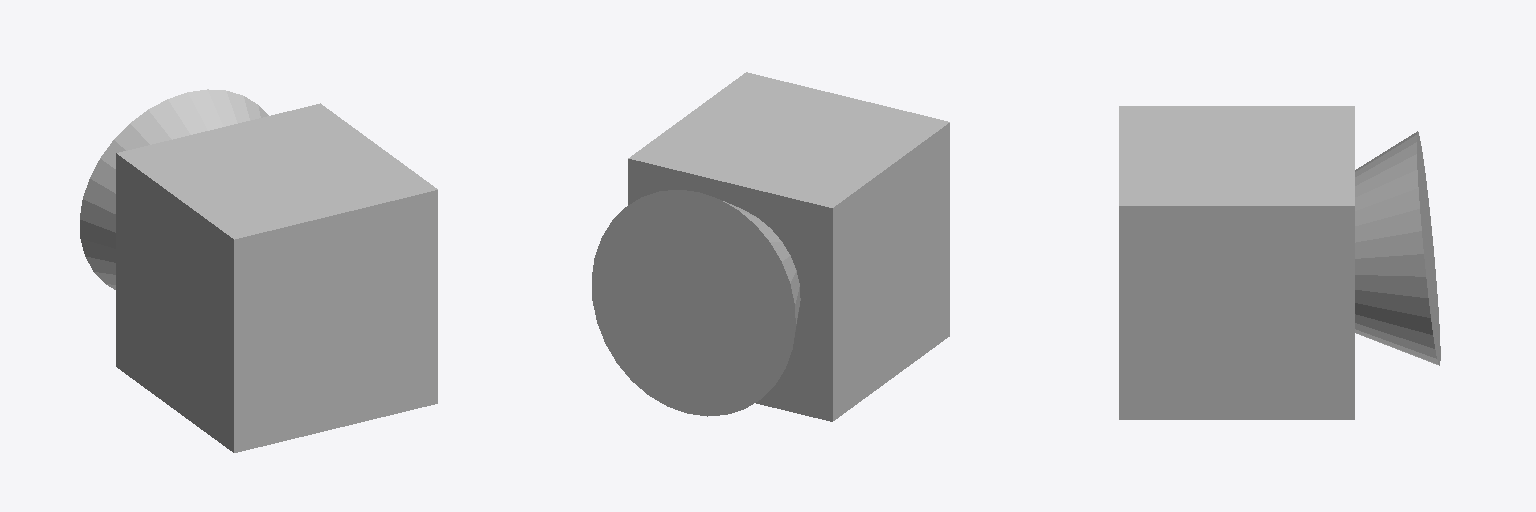
Rendered from camera.obj.
3 views of the same model, side by side, from view 1: azimuth 30°, elevation 25°; view 2: azimuth 150°, elevation 25°; view 3: azimuth 270°, elevation 25° (orthographic).
Visible parts, largest first — view 1: Cube; view 2: Cube; view 3: Cube.
Part boxes in pixels (left/top/right/bottom): Cube: left=80, top=89, right=437, bottom=452; Cube: left=592, top=72, right=949, bottom=421; Cube: left=1119, top=106, right=1440, bottom=419.
Size of the model in its own units: 2 by 2.13 by 2.72.